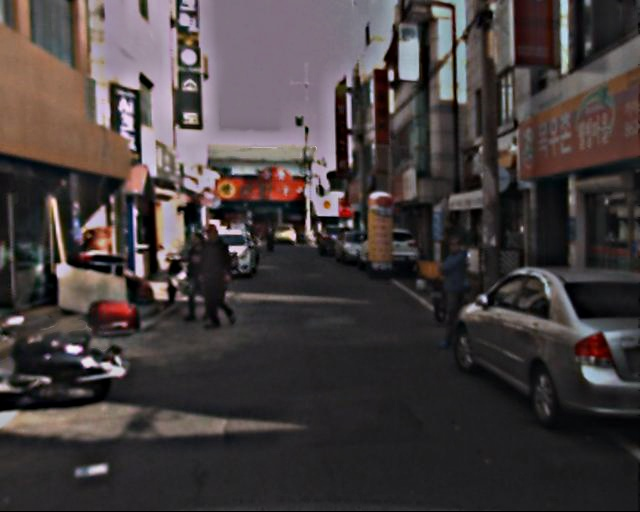person: (434, 235, 483, 349), (192, 223, 241, 327), (181, 233, 217, 320), (265, 221, 279, 255)
